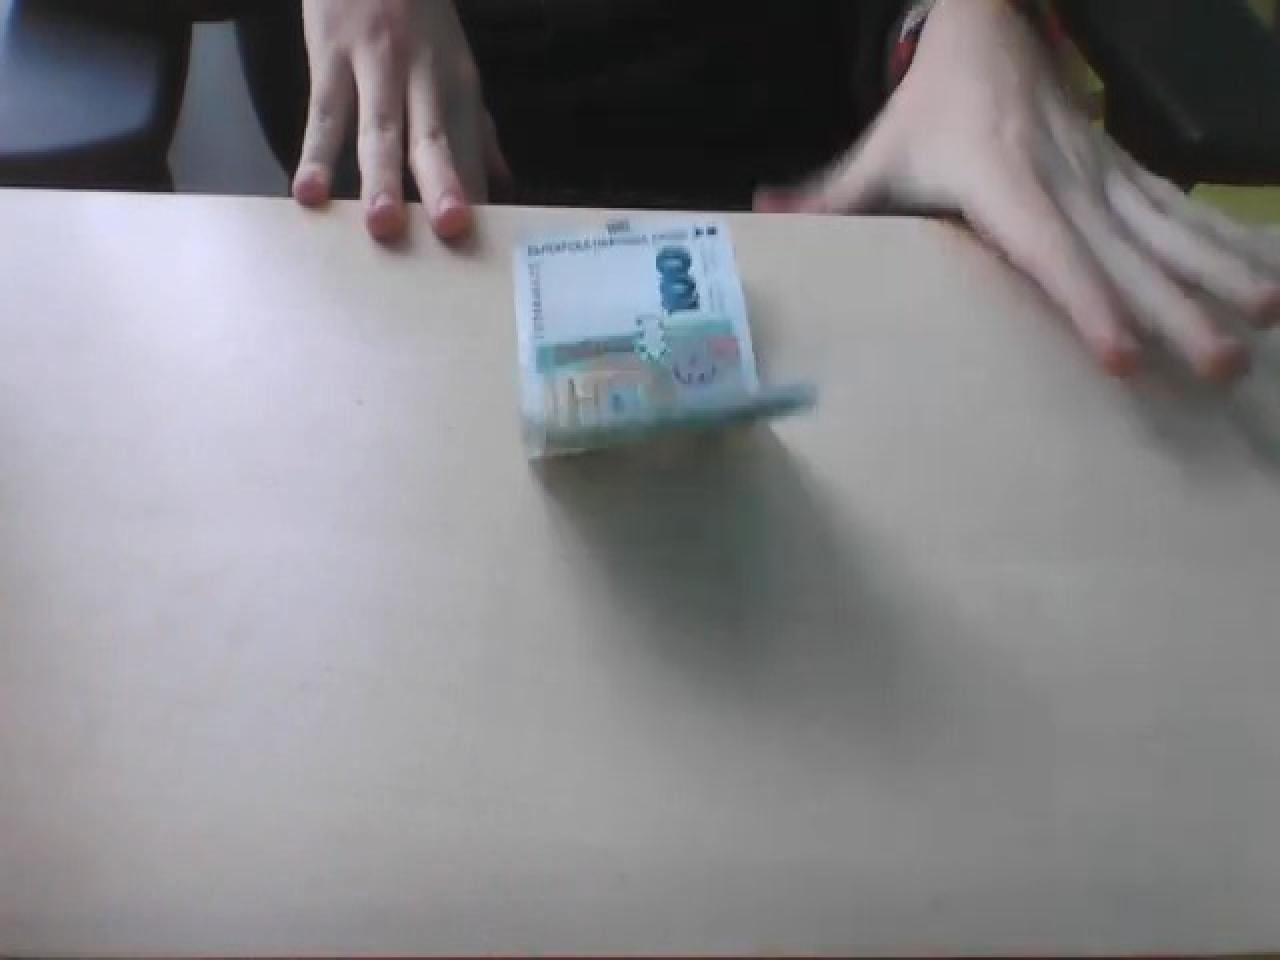100leva: (510, 211, 816, 464)
